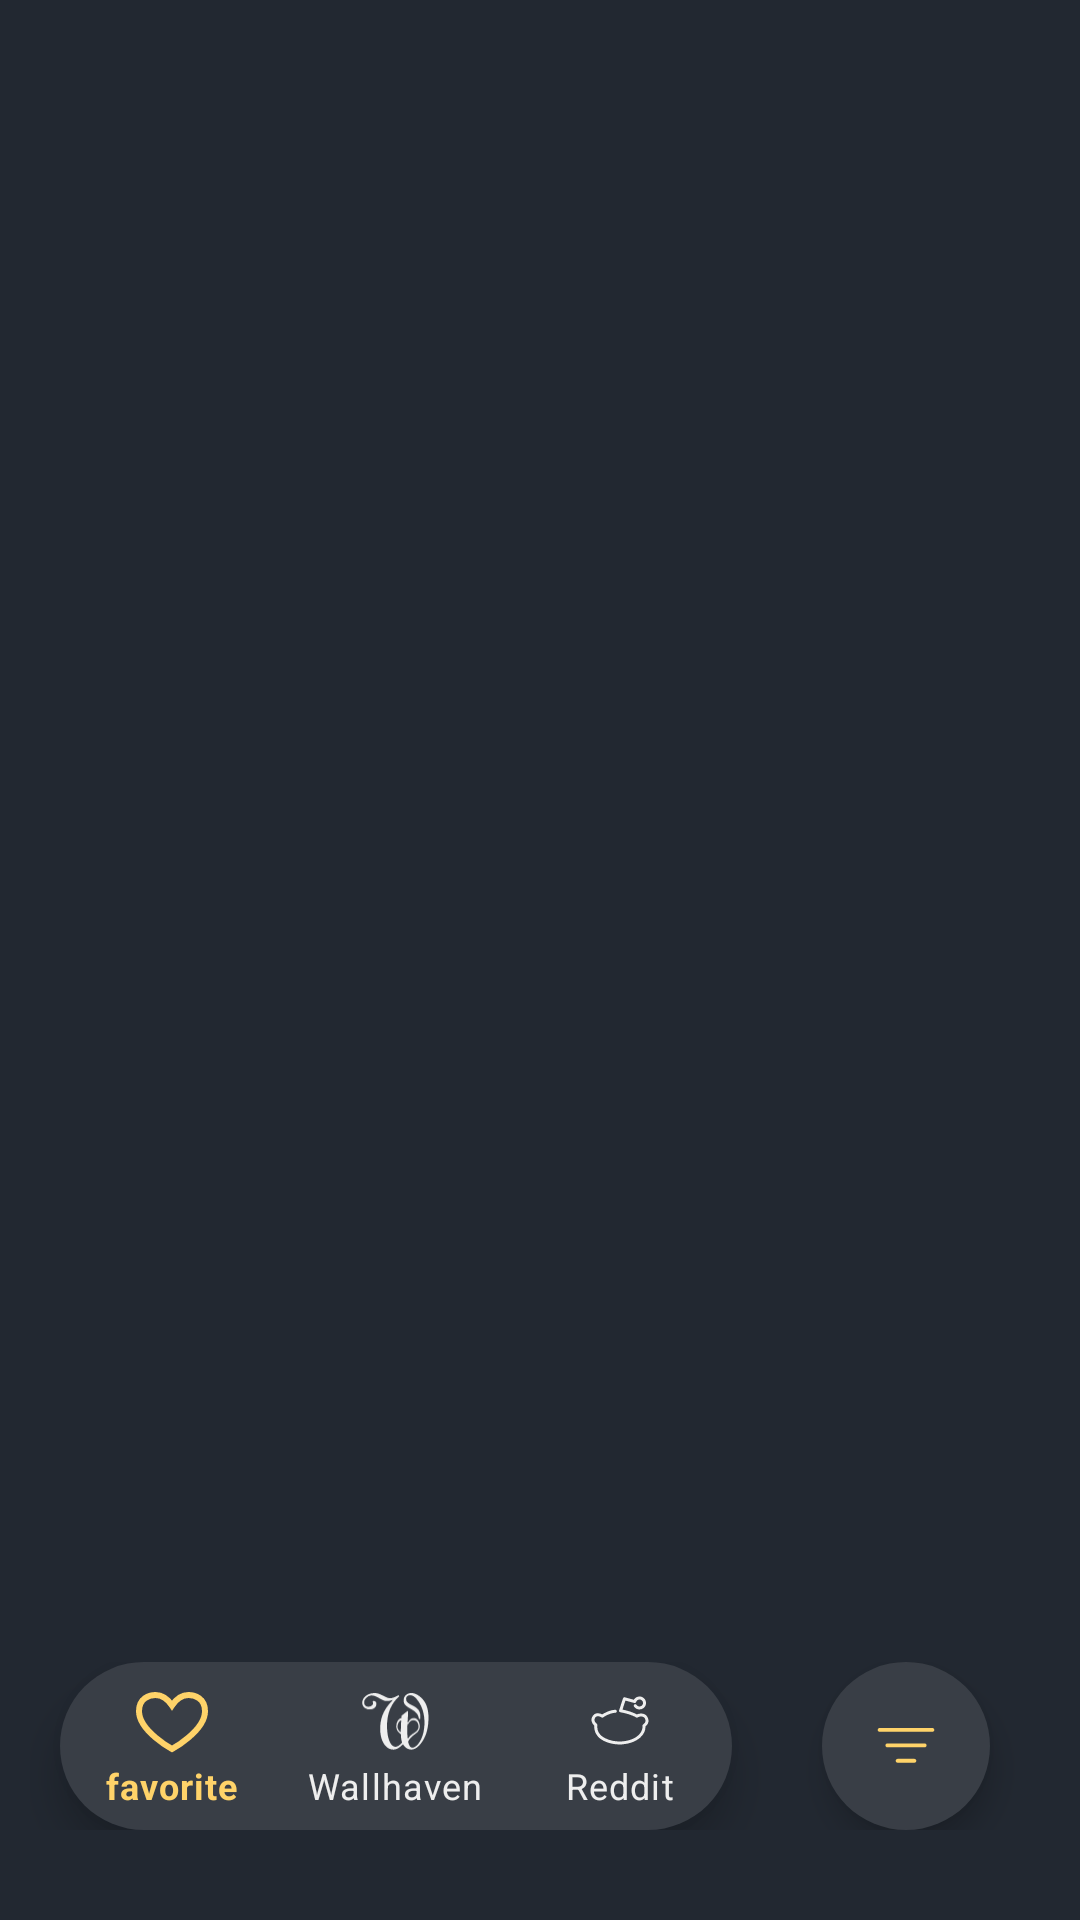

Icons on this 1080px x 1920px Android screen, each with its box as (x1, y1, x2, y2):
filter: (822, 1662, 990, 1830)
